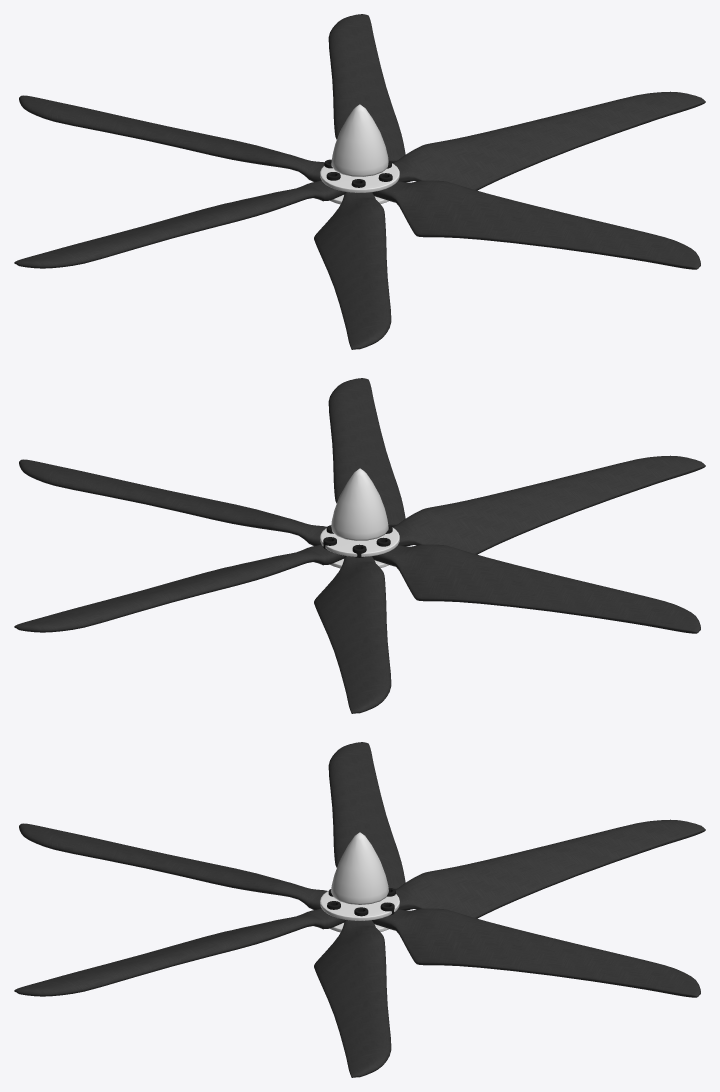
Rendered from rRB.glb.
3 views of the same model, one above another, from view 1: azimuth 30°, elevation 25°; view 2: azimuth 150°, elevation 25°; view 3: azimuth 270°, elevation 25° (orthographic).
Visible parts, largest first — view 1: Rotor_CCW_02; view 2: Rotor_CCW_02; view 3: Rotor_CCW_02.
Boxes of the visible parts, x1=… form: Rotor_CCW_02: x1=14, y1=14, x2=705, y2=349; Rotor_CCW_02: x1=14, y1=378, x2=705, y2=713; Rotor_CCW_02: x1=14, y1=742, x2=705, y2=1077.
Bounding box in the file's own units: 0.0869 × 0.0122 × 0.0761.
Materials: 3 (1 with a texture image).
